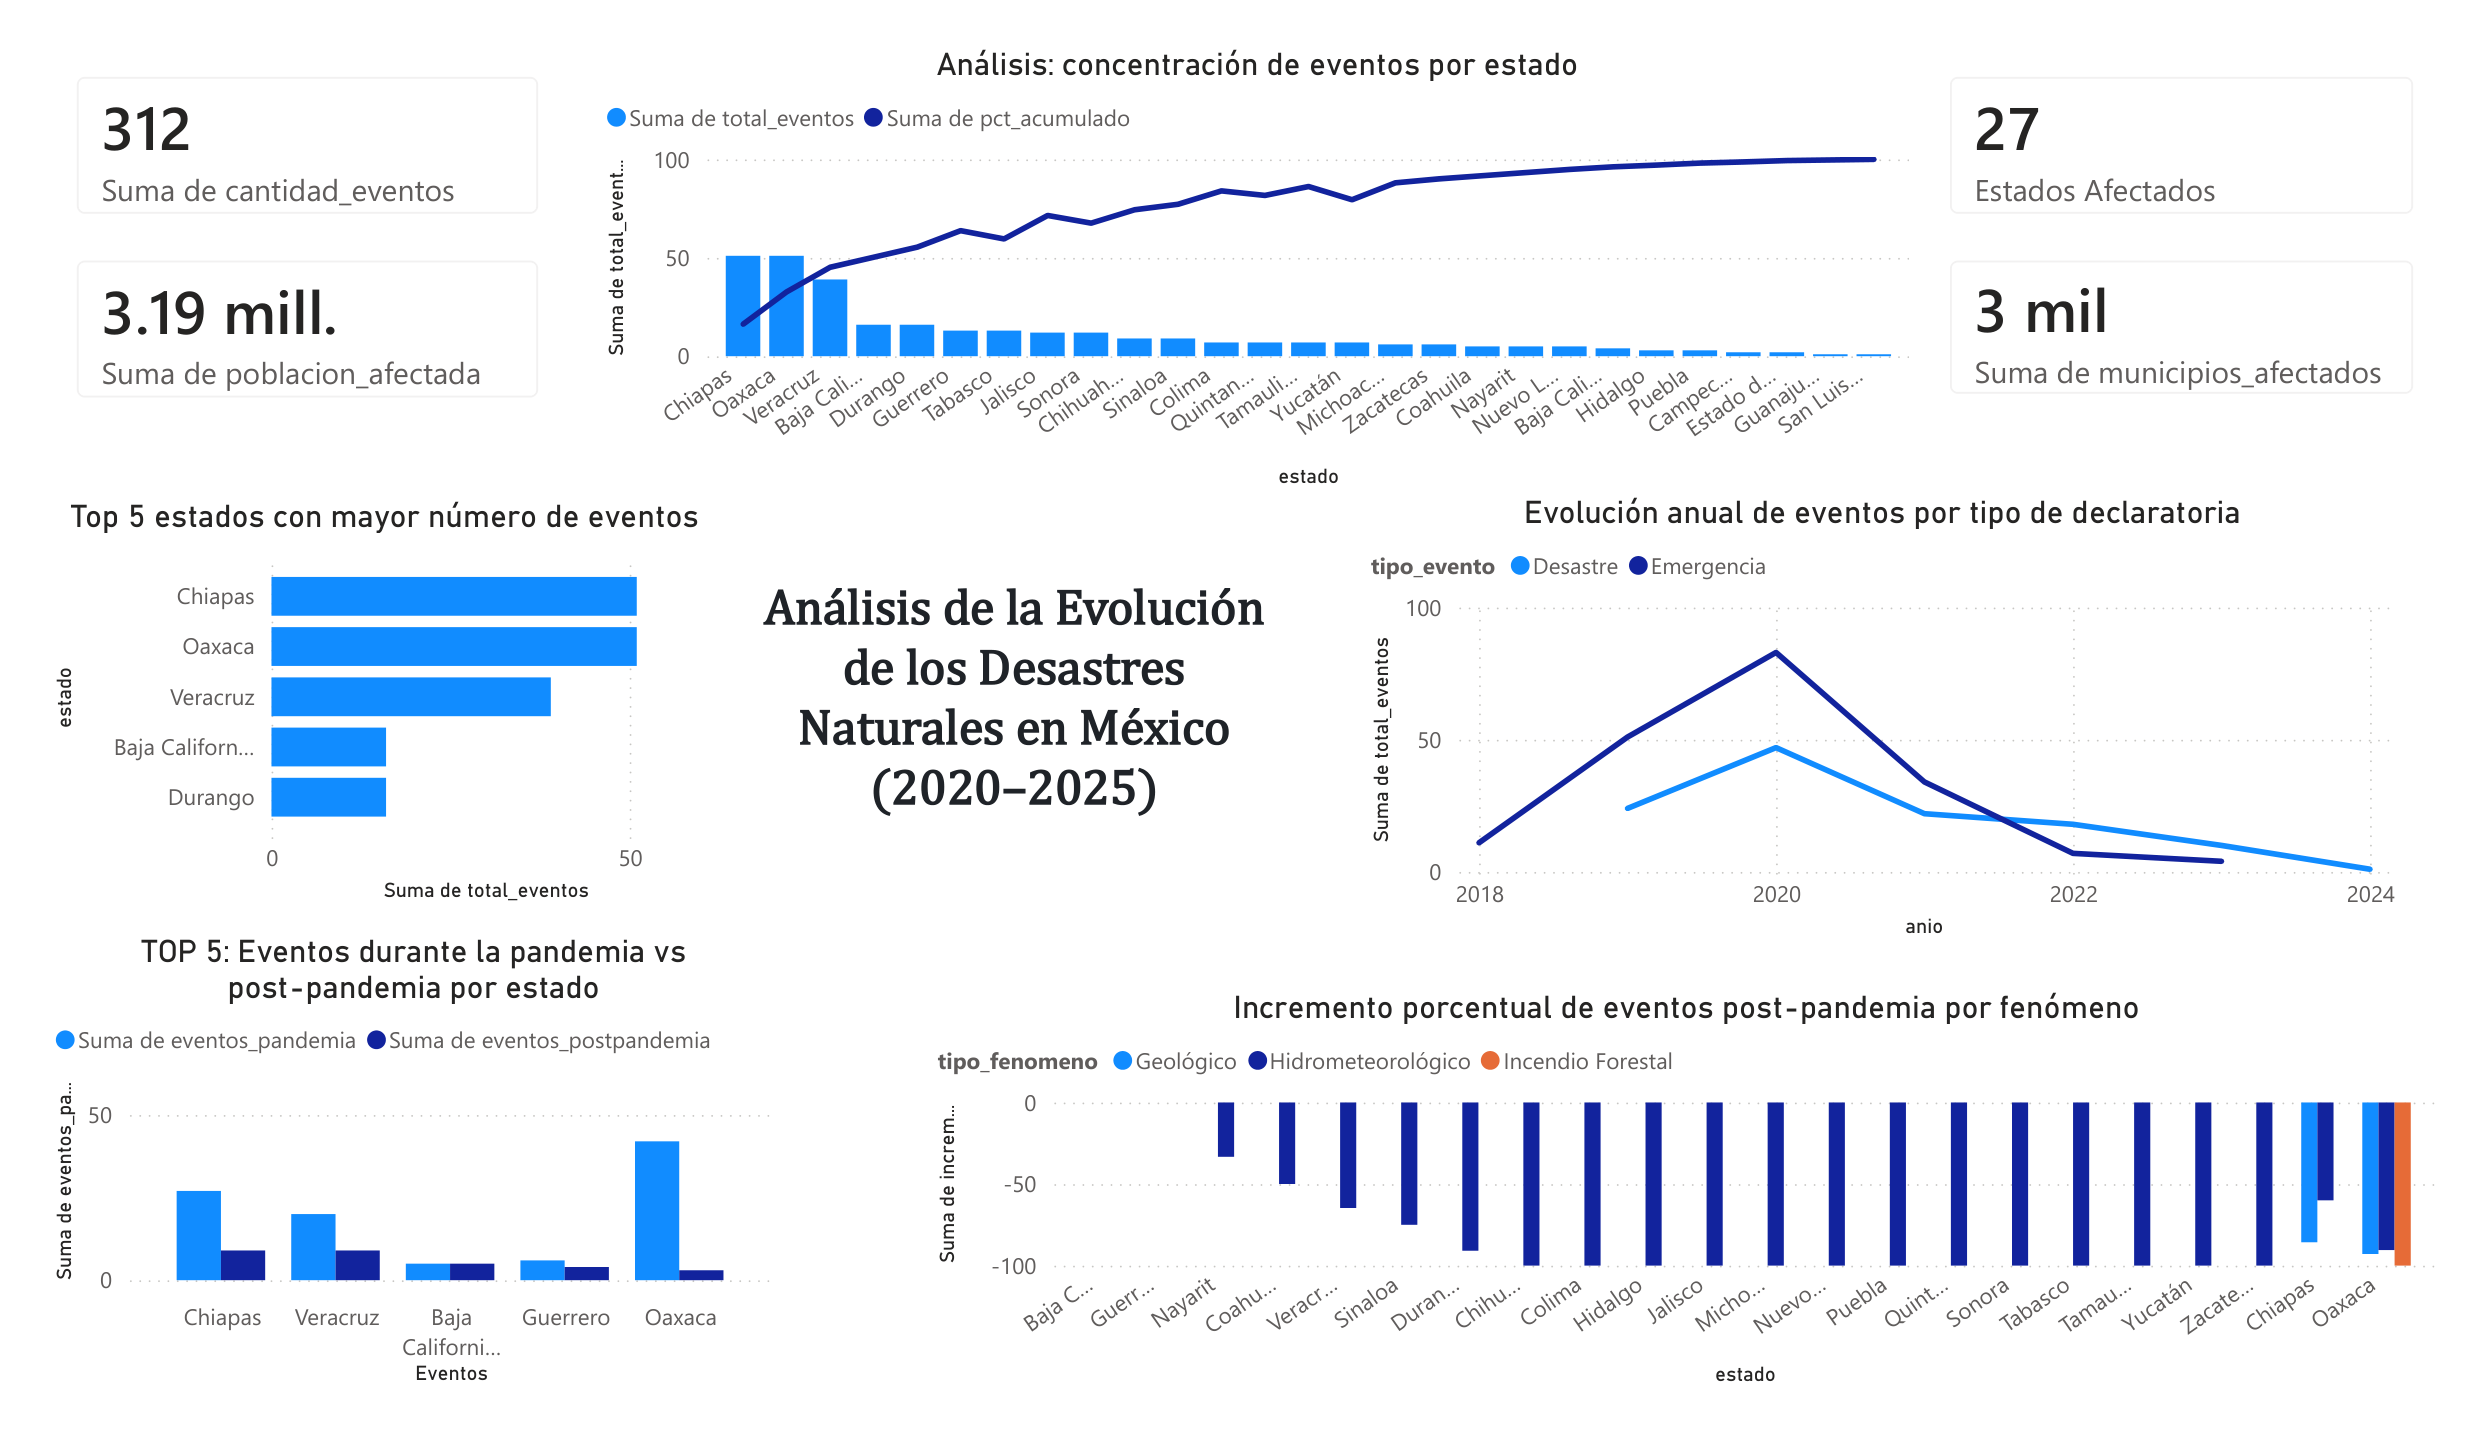

The page's visual inventory and layout, read from the dashboard file:
{"tool":"powerbi","page":{"name":"Página 1","canvas":[1280,720],"ordinal":0},"visuals":[{"type":"cardVisual","fields":{"Data":["Sum(riesgos_proyecto fact_eventos_desastres.cantidad_eventos)"]},"box":[0,0,280.3,107.5],"z":0},{"type":"cardVisual","fields":{"Data":["Sum(riesgos_proyecto fact_eventos_desastres.poblacion_afectada)"]},"box":[0,97.6,280.3,107.5],"z":1000},{"type":"cardVisual","fields":{"Data":["Sum(riesgos_proyecto fact_eventos_desastres.municipios_afectados)"]},"box":[999.4,97.6,280.3,105.7],"z":2000},{"type":"cardVisual","fields":{"Data":["riesgos_proyecto fact_eventos_desastres.Estados Afectados"]},"box":[999.4,0,280.3,107.5],"z":3000},{"type":"clusteredColumnChart","title":"TOP 5: Eventos durante la pandemia vs post-pandemia por estado","fields":{"Category":["riesgos_proyecto vw_pandemia_vs_postpandemia.estado"],"Y":["Sum(riesgos_proyecto vw_pandemia_vs_postpandemia.eventos_pandemia)","Sum(riesgos_proyecto vw_pandemia_vs_postpandemia.eventos_postpandemia)"]},"box":[0,472.8,393.1,247.2],"z":4000},{"type":"lineChart","title":"Evolución anual de eventos por tipo de declaratoria","fields":{"Category":["riesgos_proyecto vw_evolucion_anual_eventos.anio"],"Y":["Sum(riesgos_proyecto vw_evolucion_anual_eventos.total_eventos)"],"Series":["riesgos_proyecto vw_evolucion_anual_eventos.tipo_evento"]},"box":[702.1,239.1,556.1,241.8],"z":5000},{"type":"clusteredBarChart","title":"Top 5 estados con mayor número de eventos","fields":{"Category":["riesgos_proyecto vw_ranking_estados_eventos.estado"],"Y":["Sum(riesgos_proyecto vw_ranking_estados_eventos.total_eventos)"]},"box":[0,240.9,361.8,221.2],"z":6000},{"type":"clusteredColumnChart","title":"Incremento porcentual de eventos post-pandemia por fenómeno","fields":{"Category":["riesgos_proyecto vw_incremento_postpandemia_fenomenos.estado"],"Series":["riesgos_proyecto vw_incremento_postpandemia_fenomenos.tipo_fenomeno"],"Y":["Sum(riesgos_proyecto vw_incremento_postpandemia_fenomenos.incremento_pct)"]},"box":[471,503.3,808.7,216.7],"z":7000},{"type":"lineClusteredColumnComboChart","title":"Análisis: concentración de eventos por estado","fields":{"Category":["riesgos_proyecto vw_eventos_estados.estado"],"Y2":["Sum(riesgos_proyecto vw_eventos_estados.pct_acumulado)"],"Y":["Sum(riesgos_proyecto vw_eventos_estados.total_eventos)"]},"box":[293.7,0,705.7,240.9],"z":8000},{"type":"textbox","box":[370.7,281.2,291.9,156.7],"z":8001}]}

Visuals, with their boxes in screenshot pixels (x1, y1, x2, y2), scaled from the page's 1280x720 canvas onto the 2490x1440 screenshot:
cardVisual - Sum(riesgos_proyecto fact_eventos_desastres.cantidad_eventos): bbox=[0, 0, 545, 215]
cardVisual - Sum(riesgos_proyecto fact_eventos_desastres.poblacion_afectada): bbox=[0, 195, 545, 410]
cardVisual - Sum(riesgos_proyecto fact_eventos_desastres.municipios_afectados): bbox=[1944, 195, 2489, 407]
cardVisual - riesgos_proyecto fact_eventos_desastres.Estados Afectados: bbox=[1944, 0, 2489, 215]
"TOP 5: Eventos durante la pandemia vs post-pandemia por estado" clusteredColumnChart: bbox=[0, 946, 765, 1439]
"Evolución anual de eventos por tipo de declaratoria" lineChart: bbox=[1366, 478, 2448, 962]
"Top 5 estados con mayor número de eventos" clusteredBarChart: bbox=[0, 482, 704, 924]
"Incremento porcentual de eventos post-pandemia por fenómeno" clusteredColumnChart: bbox=[916, 1007, 2489, 1439]
"Análisis: concentración de eventos por estado" lineClusteredColumnComboChart: bbox=[571, 0, 1944, 482]
textbox: bbox=[721, 562, 1289, 876]
